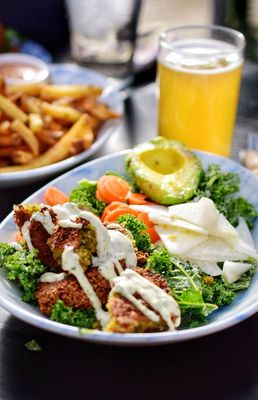curry: (146, 243, 249, 329), (196, 163, 256, 228), (0, 240, 48, 304), (48, 299, 99, 329), (116, 214, 152, 251), (69, 179, 106, 214)
pizza: (156, 25, 246, 159)
sushi: (0, 137, 257, 393), (0, 76, 128, 207), (0, 52, 50, 99)
